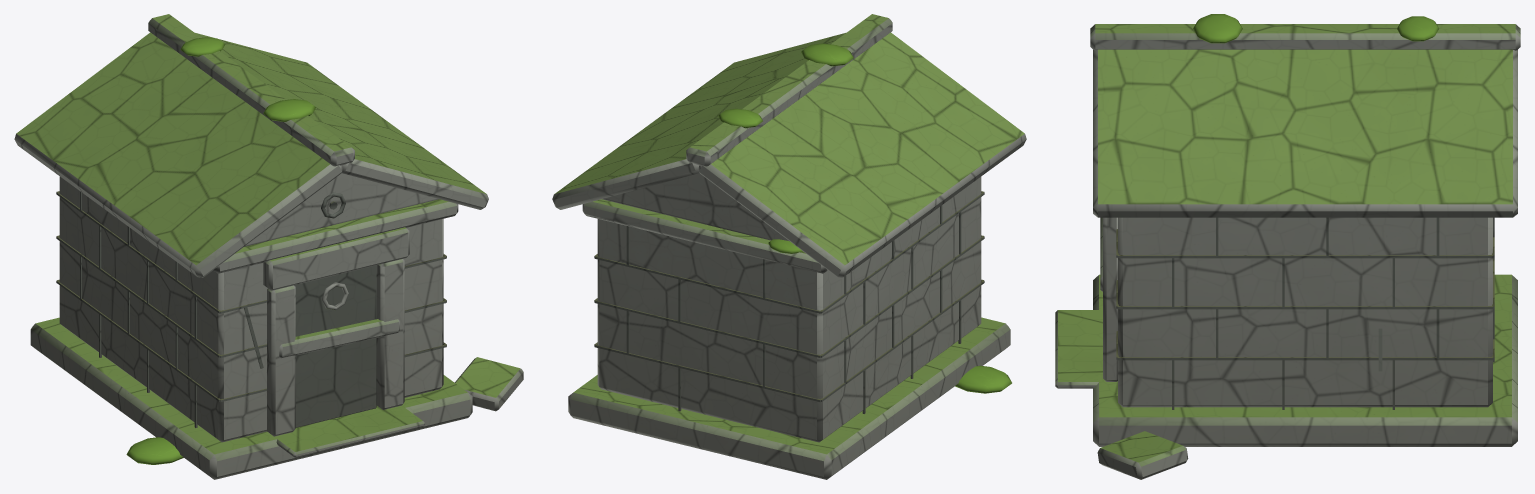
Rendered from stone_tomb.glb.
3 renders of one model, left to right at view 1: azimuth 30°, elevation 25°; view 2: azimuth 150°, elevation 25°; view 3: azimuth 270°, elevation 25°, orthographic. The views are drawn at different scales.
Visible parts, largest first — view 1: stone_tomb; view 2: stone_tomb; view 3: stone_tomb.
Part boxes in pixels (x1=…): stone_tomb: x1=14, y1=14, x2=523, y2=479; stone_tomb: x1=552, y1=14, x2=1026, y2=479; stone_tomb: x1=1055, y1=14, x2=1520, y2=479.
Size of the model in its own units: 3.93 by 3.16 by 3.72.
3 materials, 3 textured.
